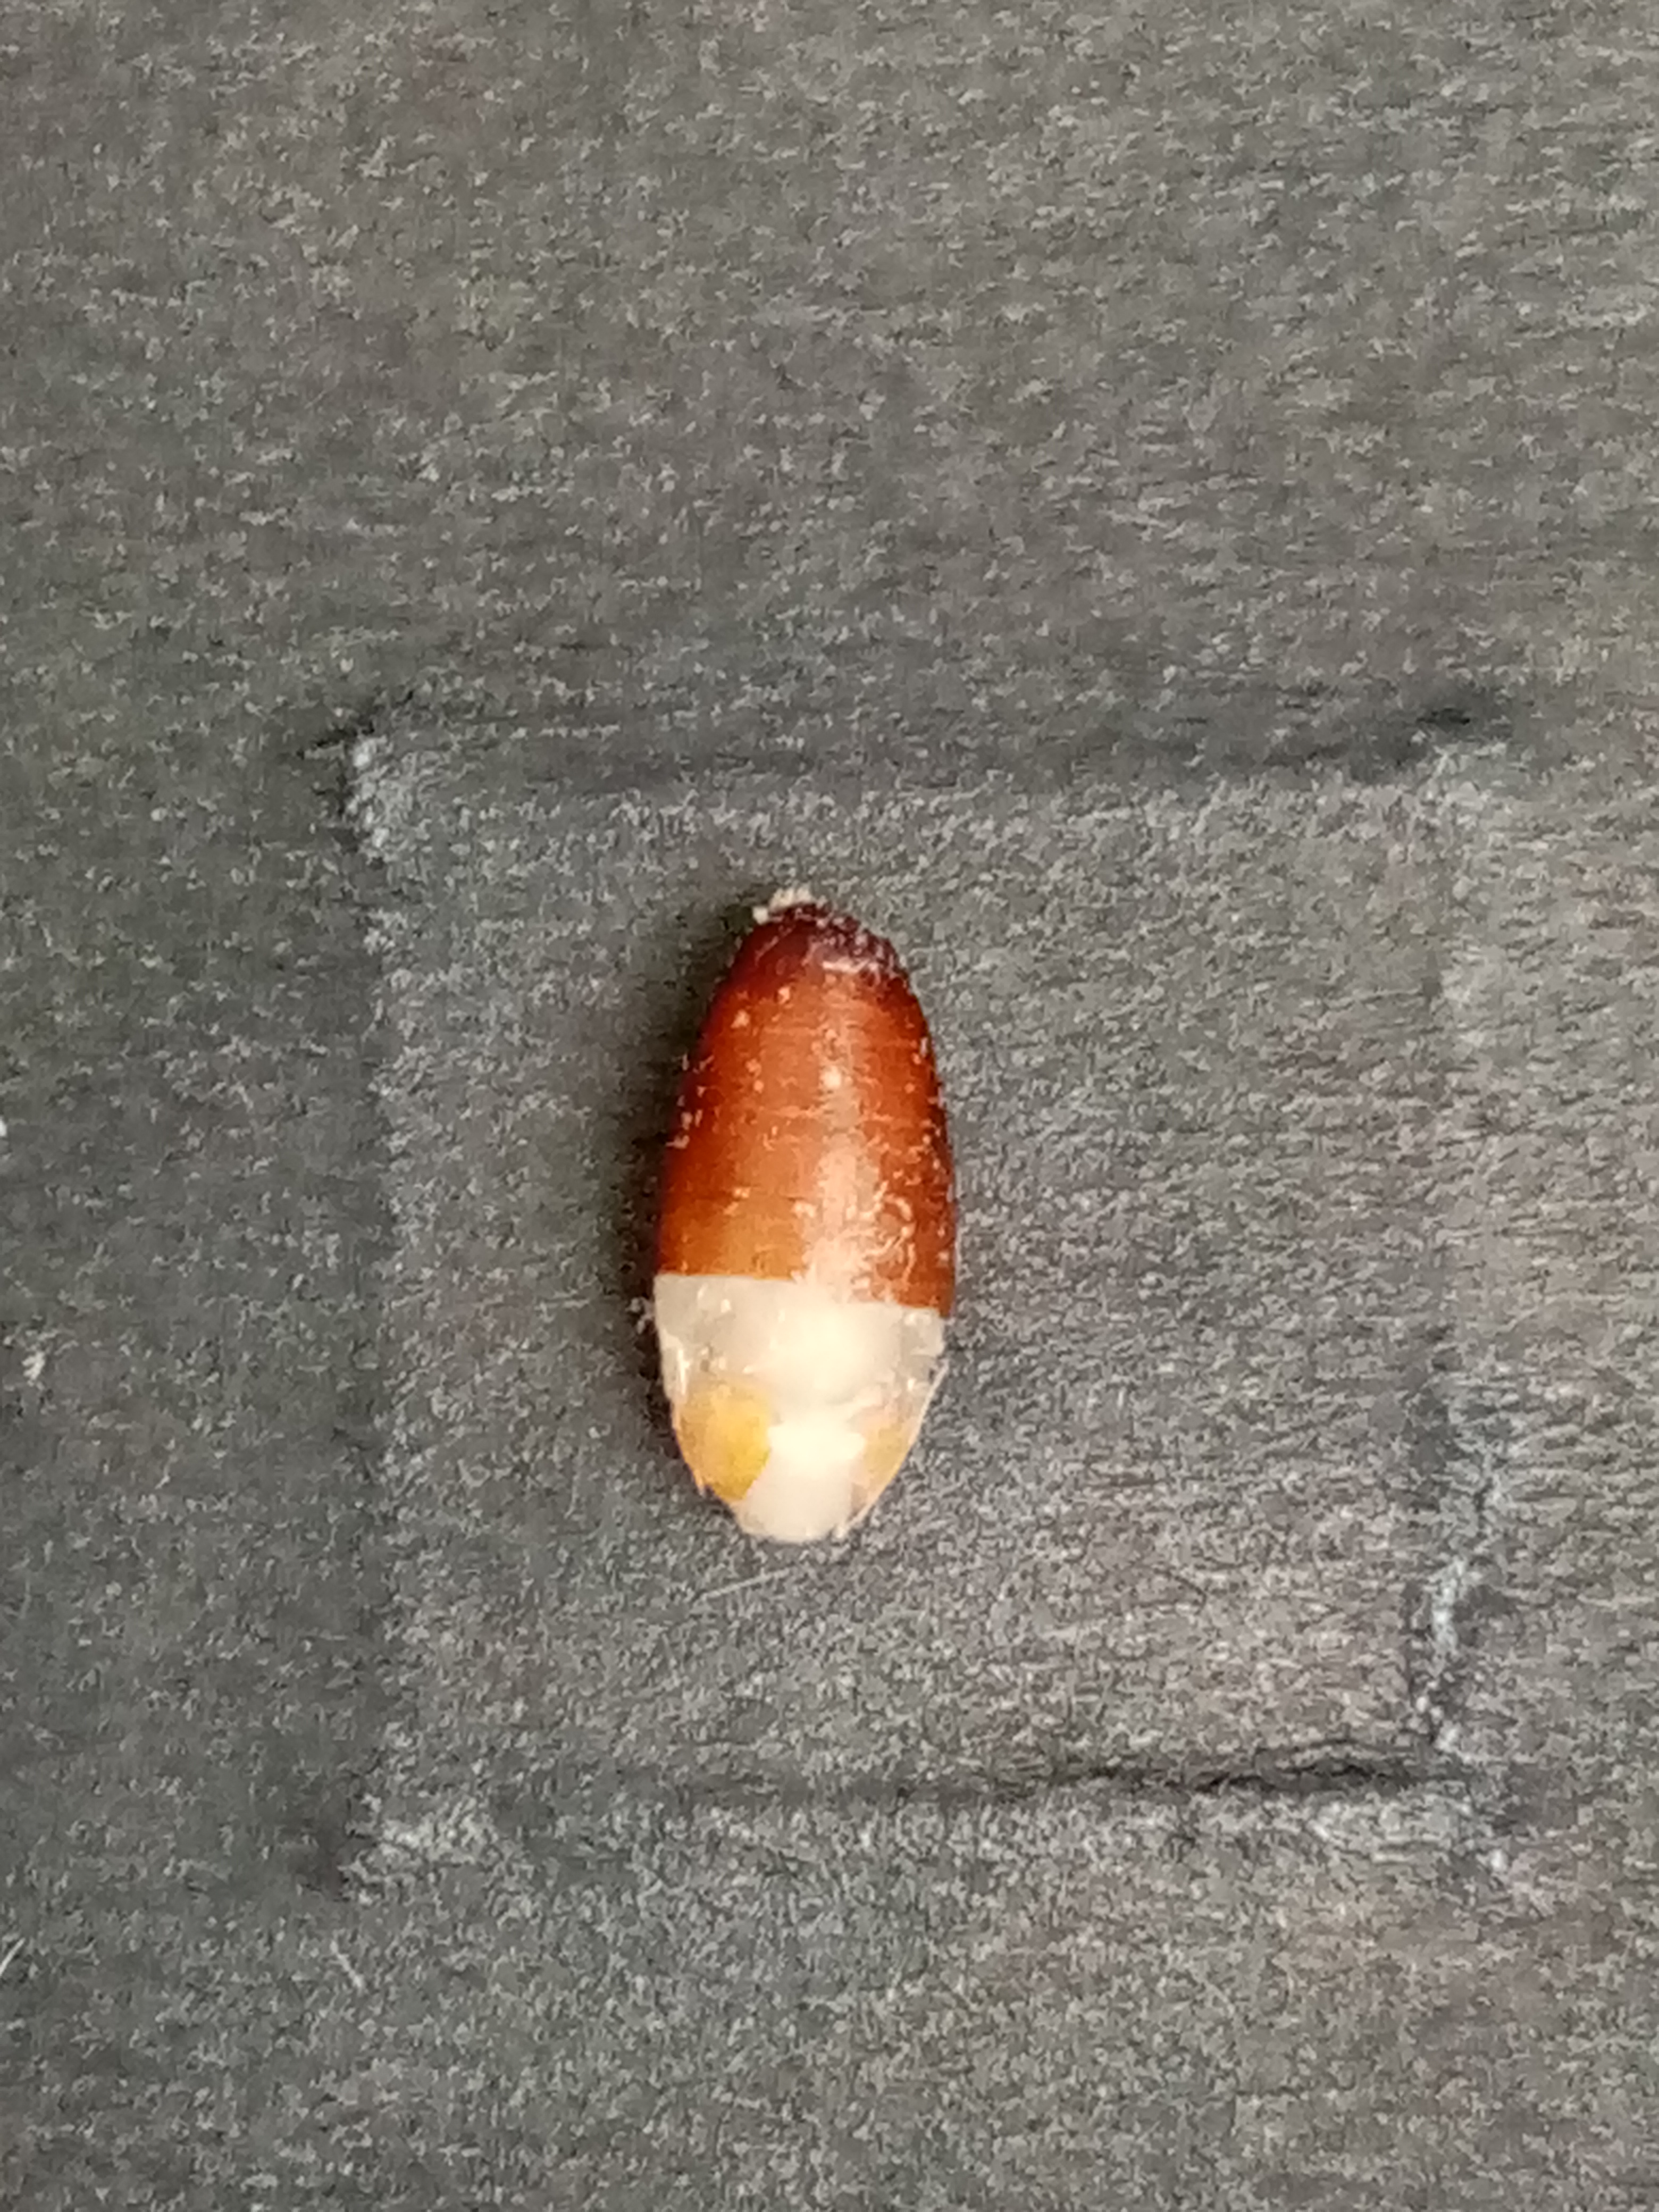pupa: (659, 1284, 946, 1545)
